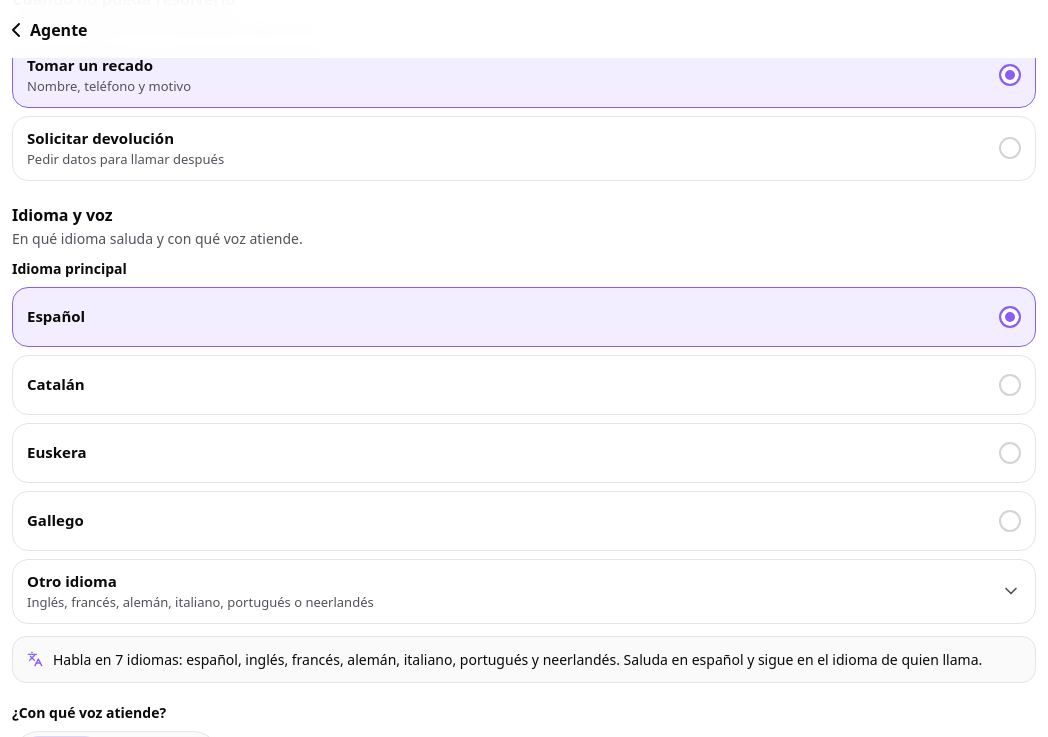
Test case: ComportamientoMovil — idioma y voz › elegir el catalán lo hace principal con los idiomas que habla con él y muestra lo que avisa el backend
(page scrolled)
Click the radio button labelled "Catalán" at {"x": 56, "y": 384}, box top-left (12, 355), bottom-right (1036, 415)
(page scrolled)
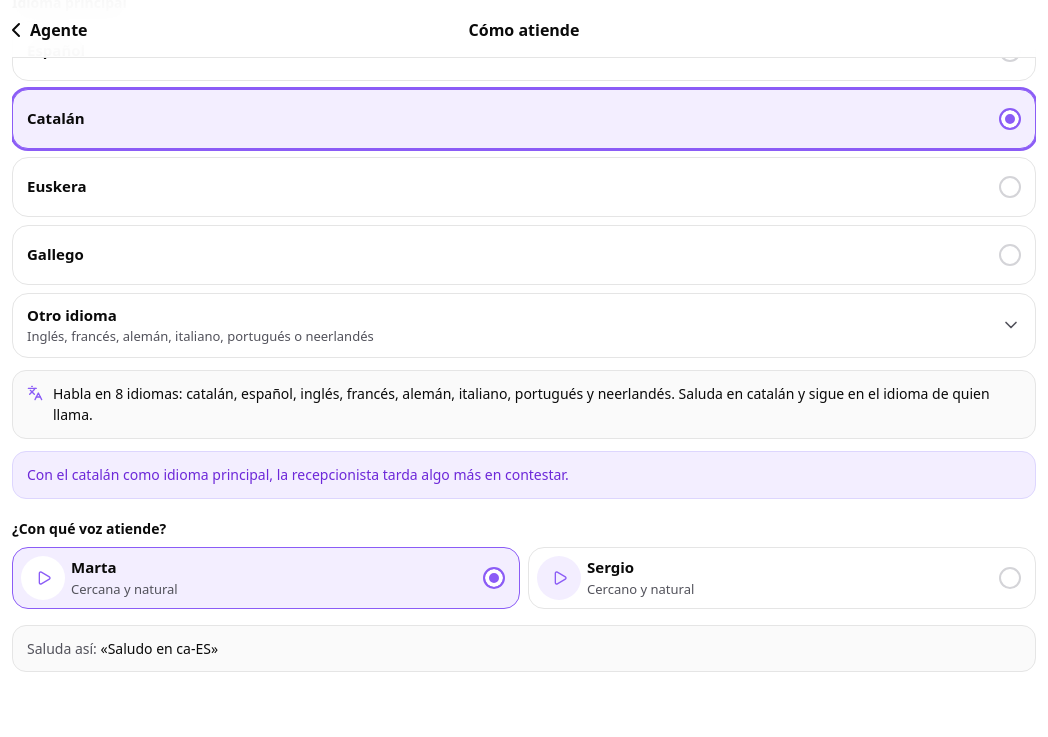
Now the list item "Con el catalán como idioma principal, la recepcionista tarda algo más en contestar." is shown, box top-left (27, 465), bottom-right (569, 484)
Now the text "«Saludo en ca-ES»" is shown, box top-left (100, 639), bottom-right (218, 658)
